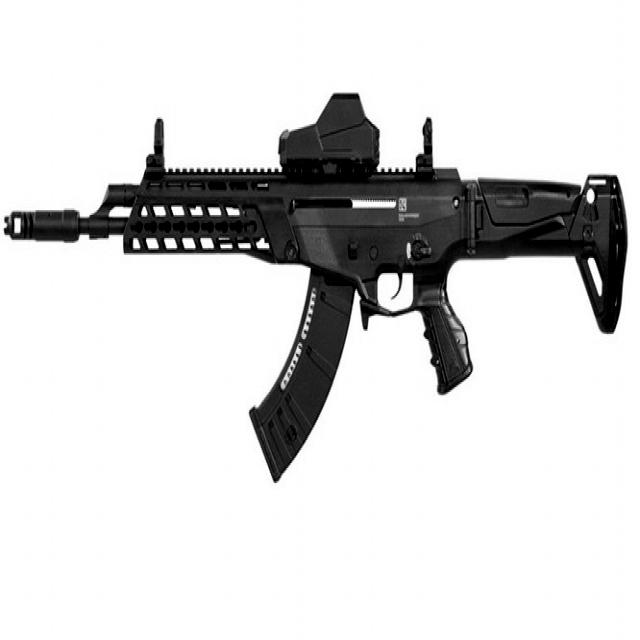ak: (4, 87, 628, 470)
